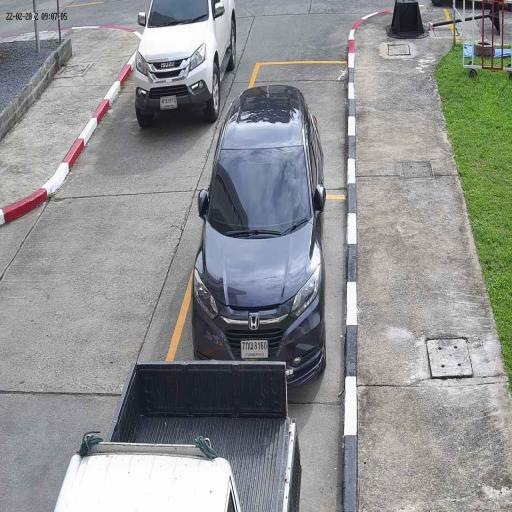car: (192, 82, 328, 384), (47, 359, 305, 511), (133, 0, 238, 124)
